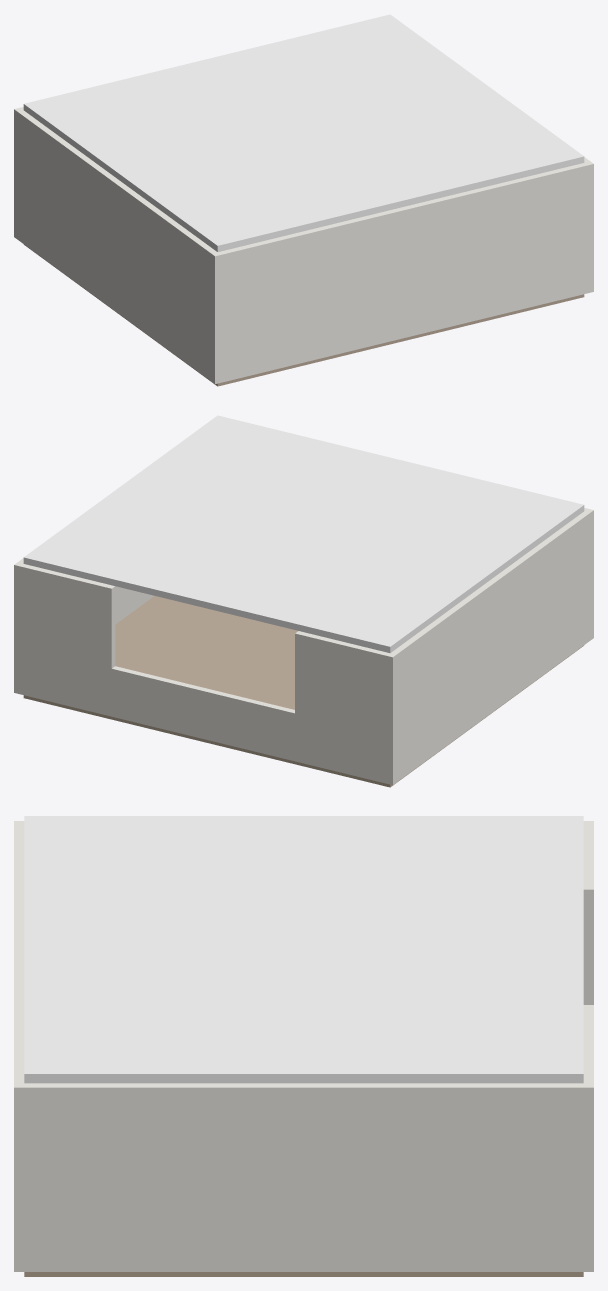
Rendered from bed_room.glb.
3 views of the same model, one above another, from view 1: azimuth 30°, elevation 25°; view 2: azimuth 150°, elevation 25°; view 3: azimuth 270°, elevation 25° (orthographic). The views are drawn at different scales.
Parts seen in each view (by area): view 1: BedRoom; view 2: BedRoom; view 3: BedRoom.
Boxes of the visible parts, bbox=[...] form: BedRoom: bbox=[14, 14, 593, 386]; BedRoom: bbox=[14, 415, 593, 787]; BedRoom: bbox=[14, 816, 593, 1276].
Bounding box in the file's own units: 7.44 × 2.64 × 6.84.
